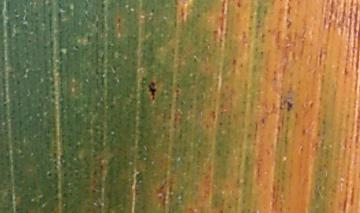tarspot: (148, 81, 157, 101), (286, 100, 293, 110)
